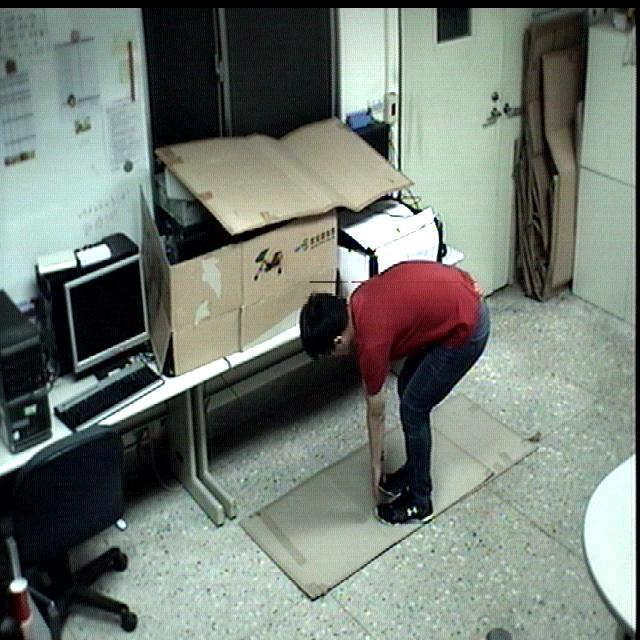bend: (294, 255, 498, 533)
